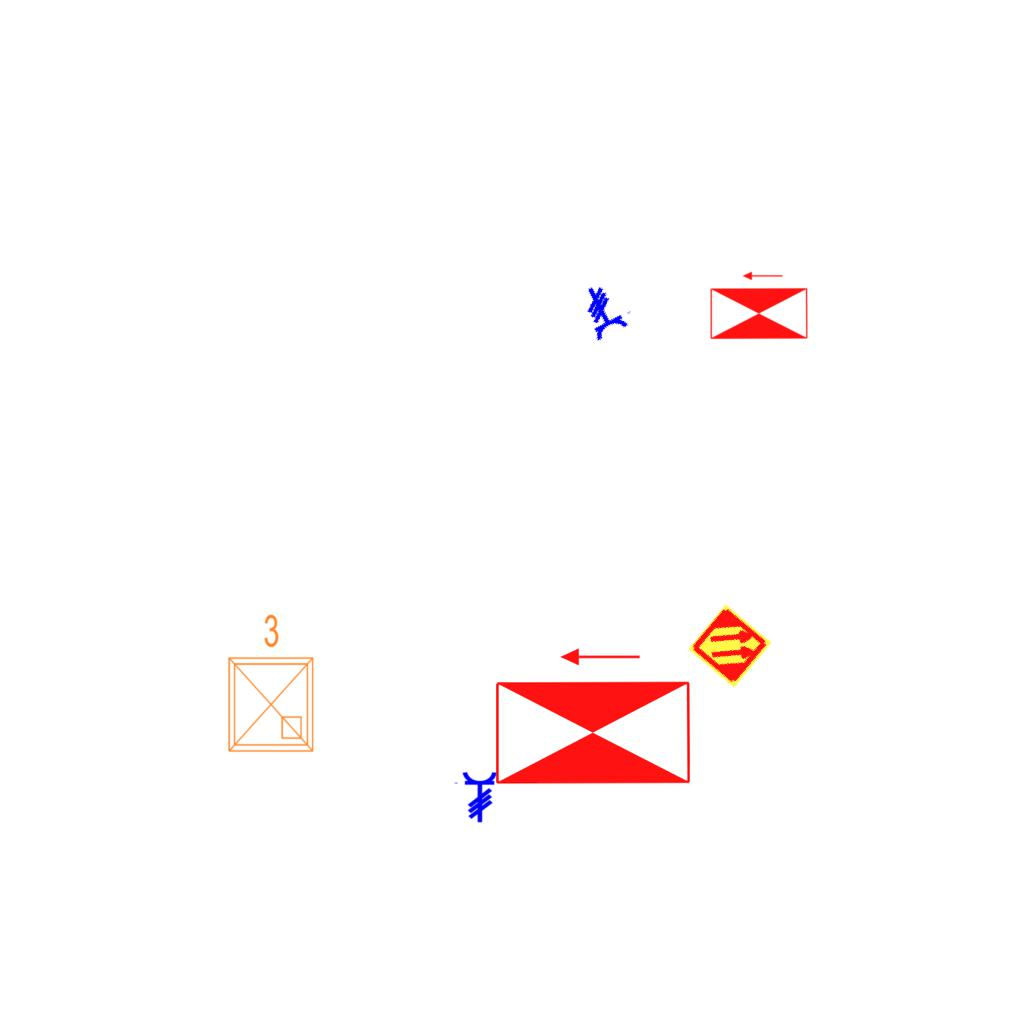ASR_Ansaugrauchmelder: (686, 602, 774, 690)
CEE_Drehstrom_Steckdose_16_32_A: (573, 275, 638, 343), (453, 771, 498, 823)
Einbaudownlights_LED_Konferenzraeume: (217, 609, 321, 759)
Fluchtwegpiktogramm: (489, 643, 697, 790), (707, 269, 811, 342)
